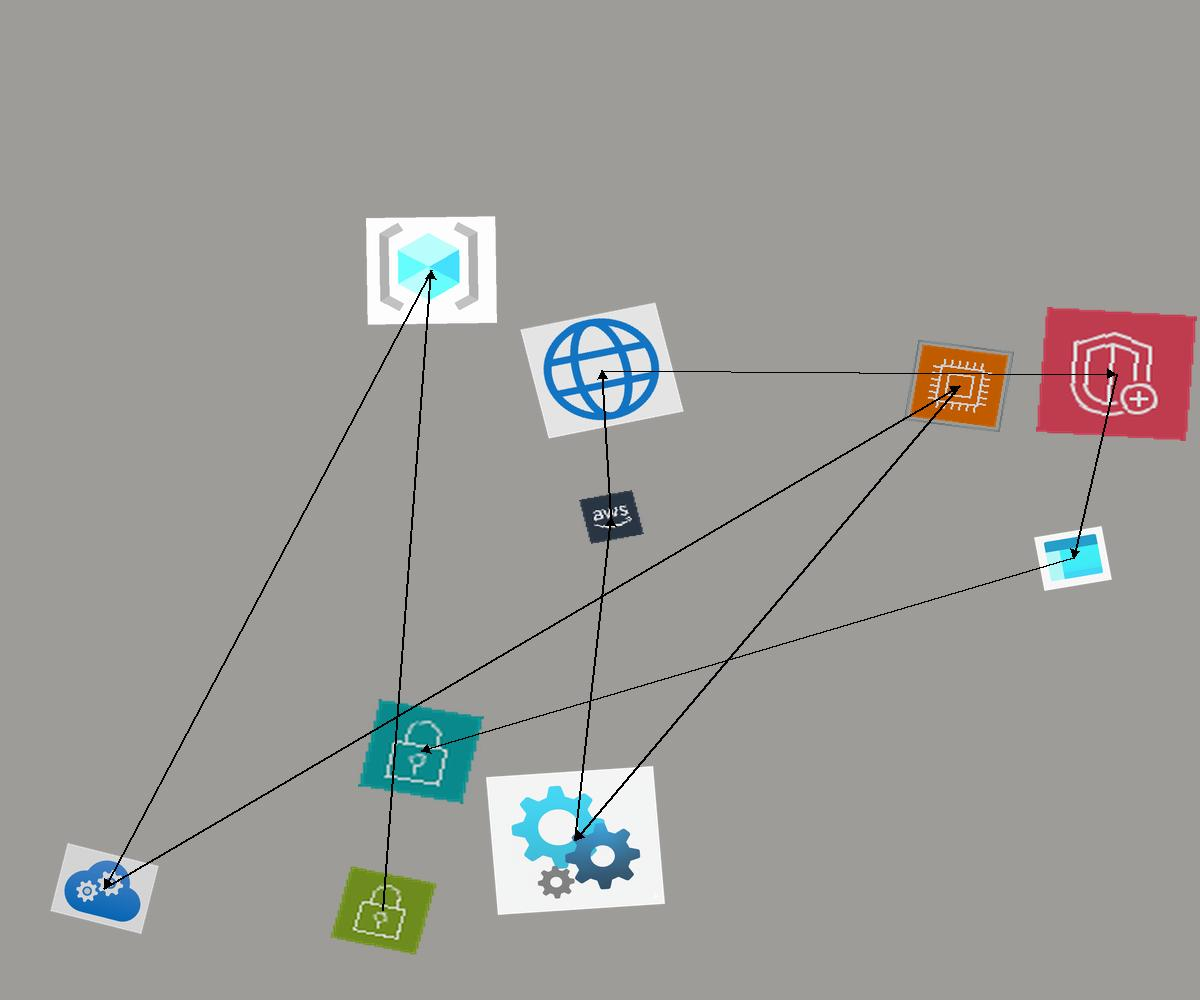AWS-Category_Compute: (903, 339, 1015, 433)
AWS-Cloud-logo: (579, 490, 644, 544)
AWS-Private-subnet: (358, 699, 484, 804)
AWS-Public-subnet: (329, 865, 438, 956)
AWS-Shield: (1036, 307, 1197, 441)
Azure_api: (486, 766, 665, 915)
Azure_cloud_services: (50, 843, 159, 934)
Azure_http: (520, 302, 684, 439)
Azure_management-portal: (1034, 526, 1112, 591)
Azure_resource_group: (366, 216, 497, 325)
